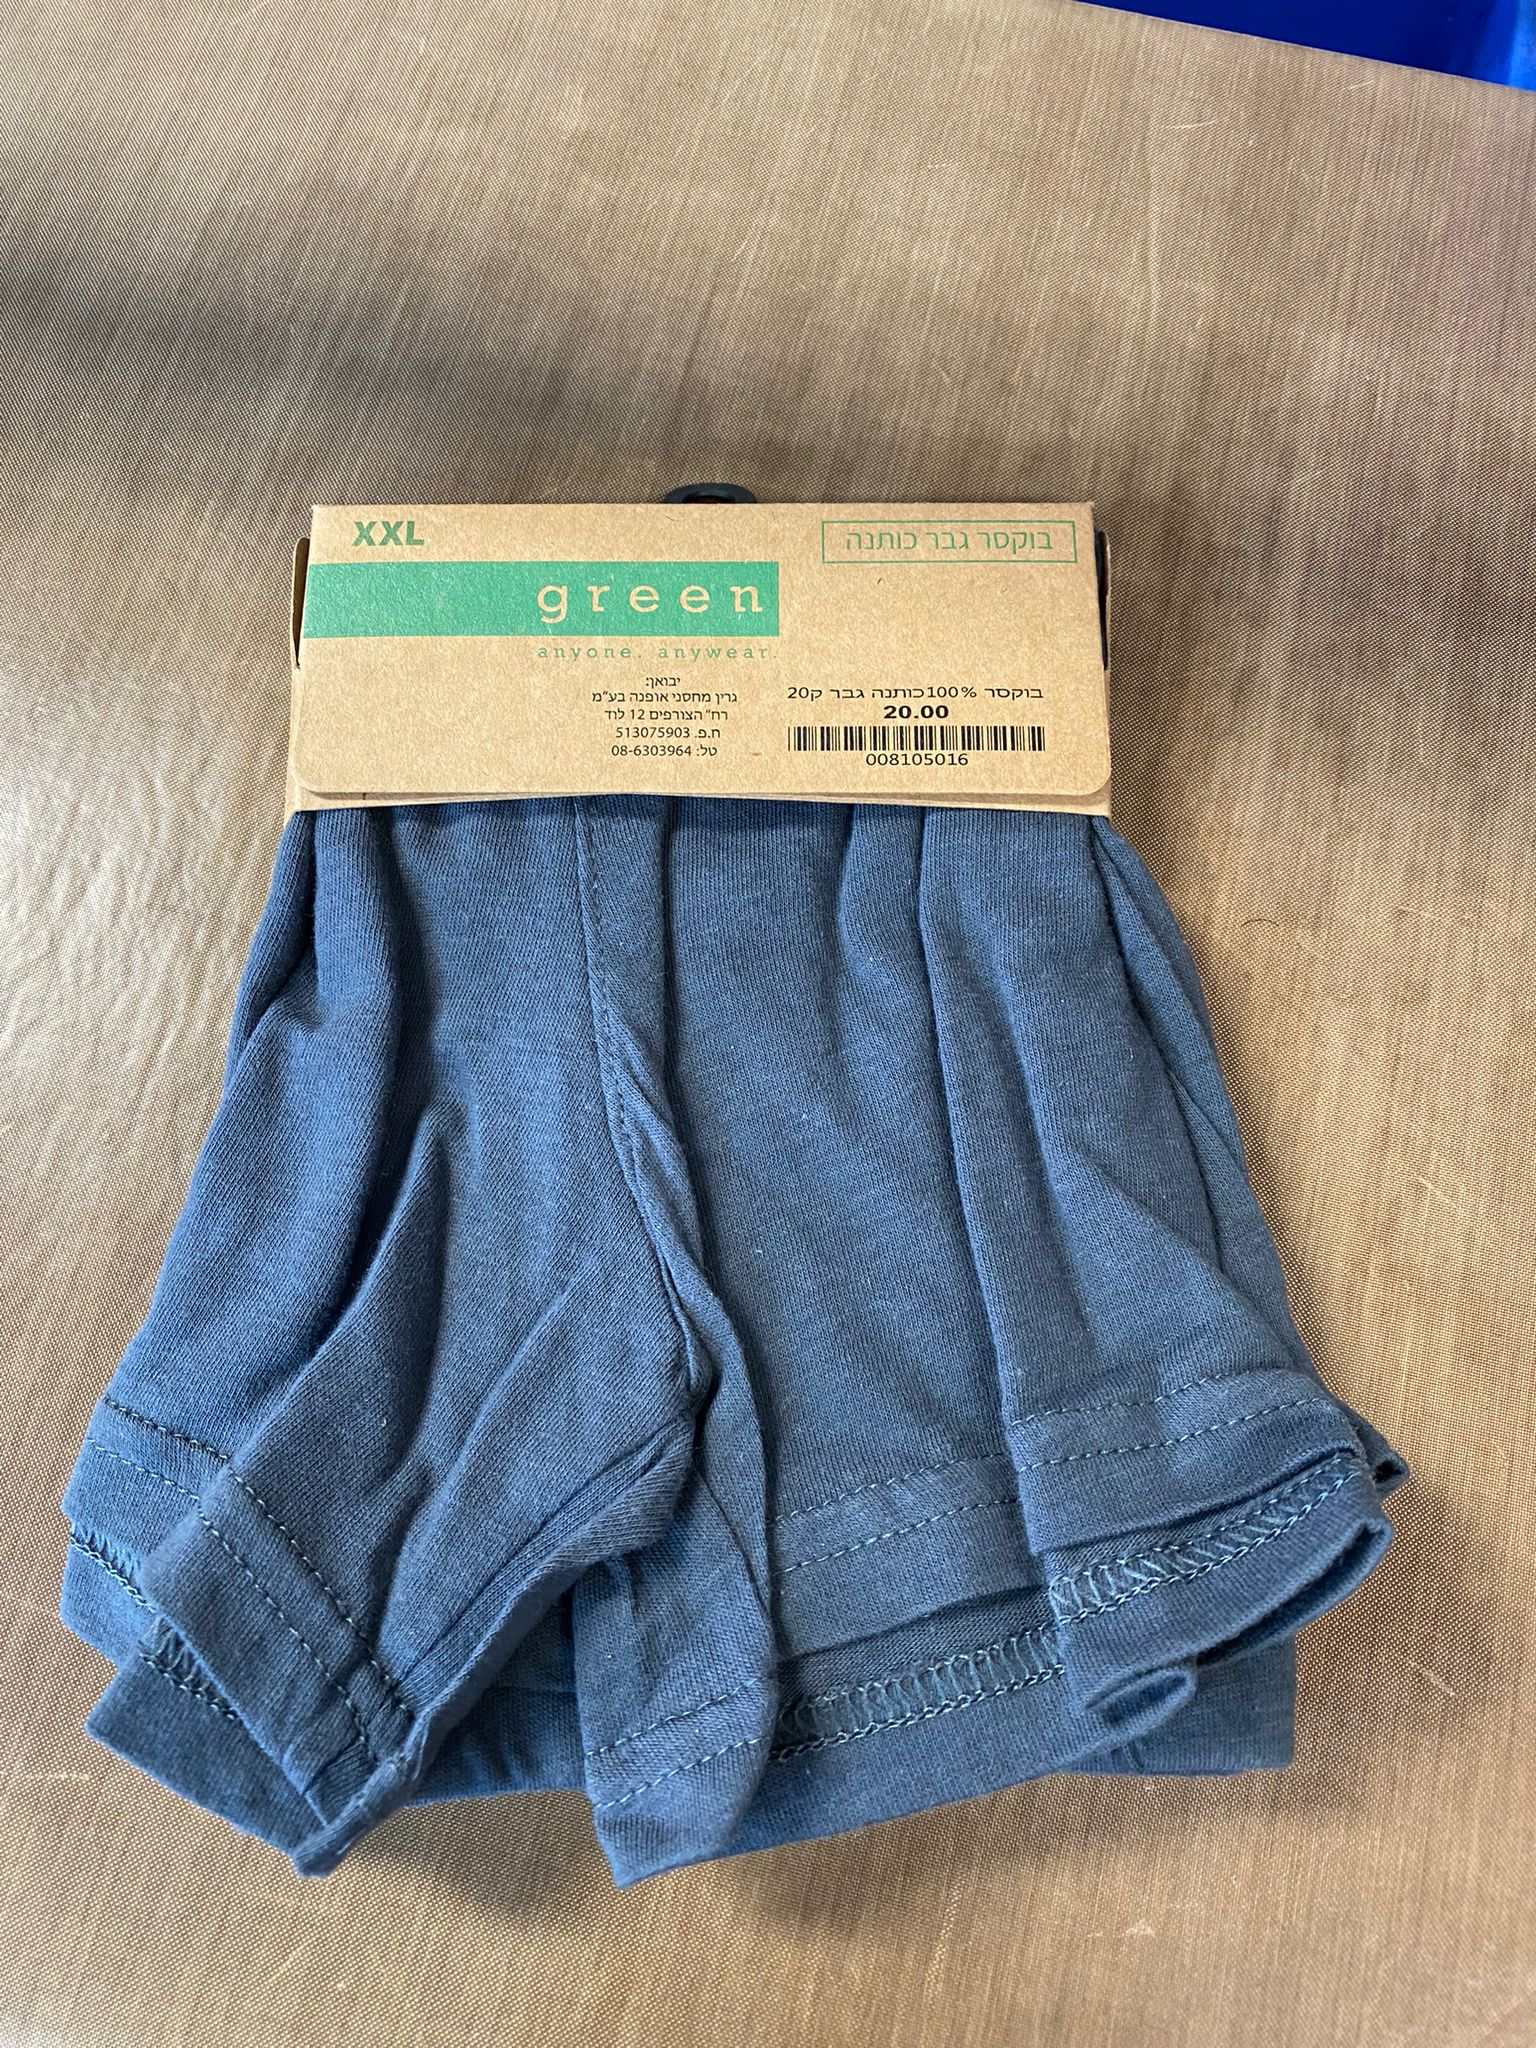other: (53, 429, 1418, 1856)
